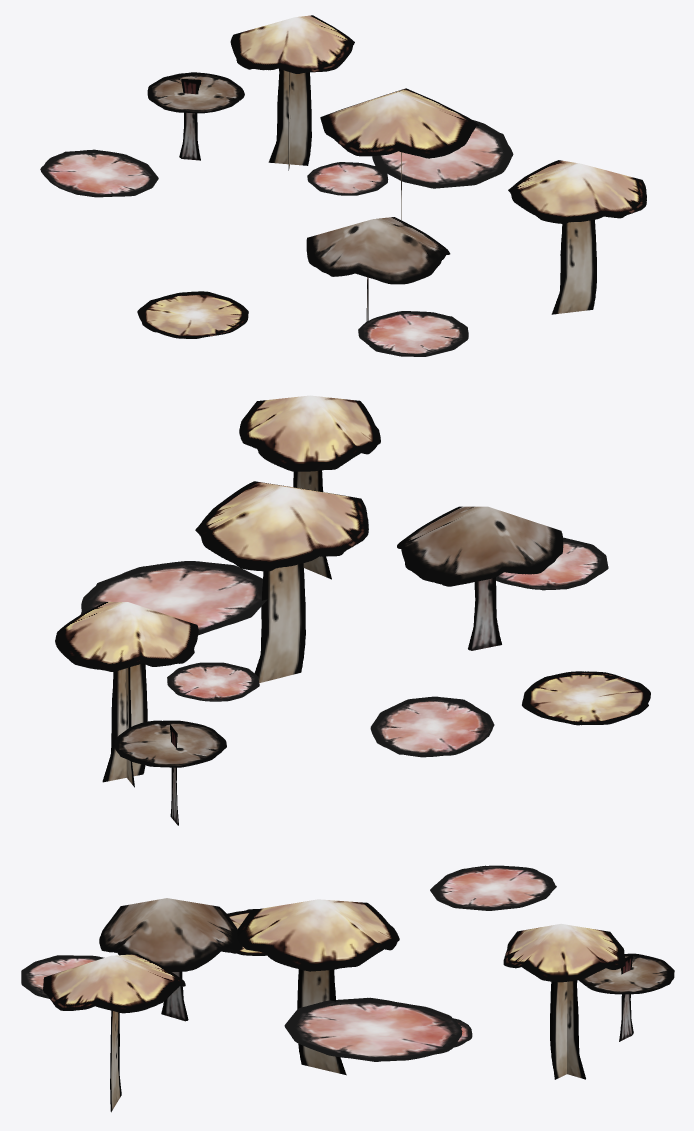
File: FOL_MushroomA.FBX
3 renders of one model, top to bottom at view 1: azimuth 30°, elevation 25°; view 2: azimuth 150°, elevation 25°; view 3: azimuth 270°, elevation 25°, orthographic. The views are drawn at different scales.
Parts seen in each view (by area): view 1: FOL_MushroomA; view 2: FOL_MushroomA; view 3: FOL_MushroomA.
Boxes of the visible parts, x1=… form: FOL_MushroomA: x1=40, y1=15, x2=646, y2=356; FOL_MushroomA: x1=55, y1=395, x2=650, y2=825; FOL_MushroomA: x1=21, y1=865, x2=674, y2=1112.
Bounding box in the file's own units: 156 × 55.04 × 197.
